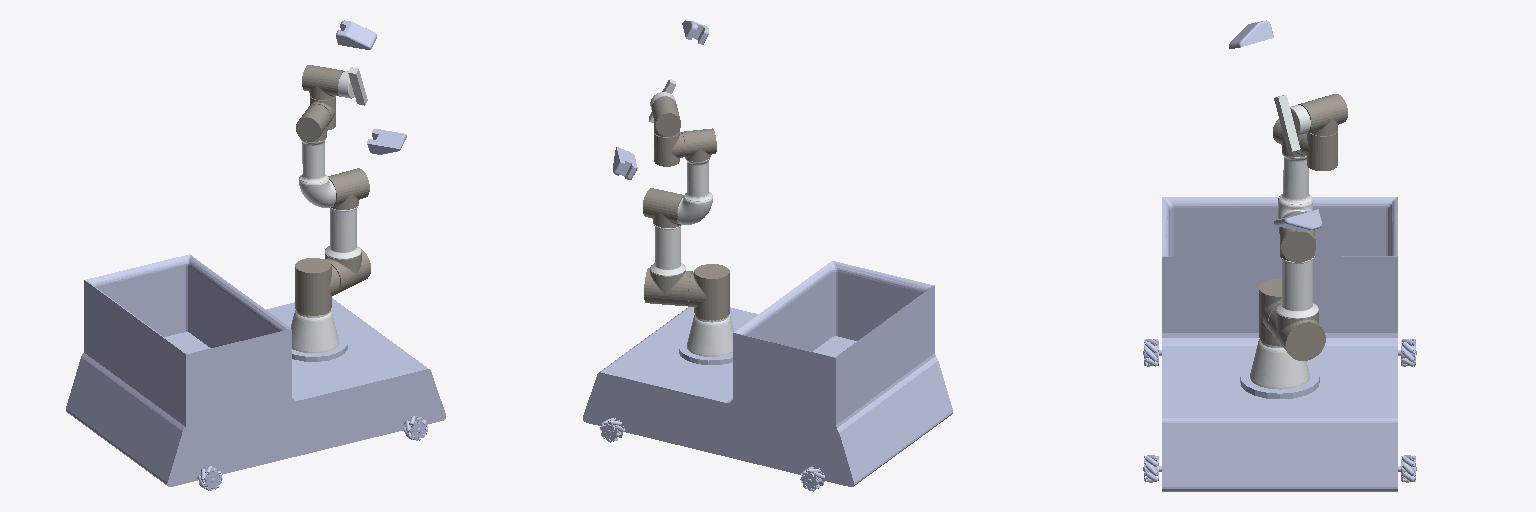
--- Render facts (derived) ---
3 views of the same robot in one strip: view 1: azimuth 30°, elevation 25°; view 2: azimuth 150°, elevation 25°; view 3: azimuth 270°, elevation 25° (orthographic).
Model vehicle_assembly with 50 links and 49 joints (6 revolute, 36 continuous, 2 prismatic, 5 fixed), rooted at base_link, posed all joints at 0 but 2 set to mid-range because 0 is outside their limits (ee_left_joint = -0.15, ee_right_joint = 0.15).
Visible links, largest first — view 1: base_link, ur3_link_1, u3_base_link, ur3_link_3, ur3_link_4, ur3_link_9, ur3_link_6, ur3_link_2, ur3_link_7, ee_right_finger, ee_left_finger, ee_link (+1 smaller); view 2: base_link, ur3_link_1, u3_base_link, ur3_link_2, ur3_link_3, ur3_link_4, ur3_link_6, ur3_link_7, ur3_link_9, ur3_link_8, ur3_link_5, ee_left_finger; view 3: base_link, u3_base_link, ur3_link_2, ur3_link_3, ur3_link_9, ur3_link_6, ur3_link_8, ee_link, ur3_link_4, ur3_link_1, ee_right_finger, ee_left_finger.
Boxes of the visible links, <box> form: base_link: <box>66,254,445,486</box>; ur3_link_1: <box>295,258,339,315</box>; u3_base_link: <box>291,310,338,352</box>; ur3_link_3: <box>325,204,361,259</box>; ur3_link_4: <box>328,168,369,209</box>; ur3_link_9: <box>302,65,344,99</box>; ur3_link_6: <box>299,137,328,184</box>; ur3_link_2: <box>325,249,370,293</box>; ur3_link_7: <box>296,104,330,141</box>; ee_right_finger: <box>336,20,376,49</box>; ee_left_finger: <box>367,129,406,154</box>; ee_link: <box>338,67,367,105</box>; base_link: <box>583,261,952,486</box>; ur3_link_1: <box>688,264,729,320</box>; u3_base_link: <box>687,315,733,356</box>; ur3_link_2: <box>644,268,692,306</box>; ur3_link_3: <box>650,223,685,275</box>; ur3_link_4: <box>643,188,683,227</box>; ur3_link_6: <box>684,157,712,203</box>; ur3_link_7: <box>681,128,716,161</box>; ur3_link_9: <box>652,97,680,136</box>; ur3_link_8: <box>654,132,684,166</box>; ur3_link_5: <box>677,192,712,224</box>; ee_left_finger: <box>613,147,637,179</box>; base_link: <box>1162,197,1397,491</box>; u3_base_link: <box>1250,339,1309,389</box>; ur3_link_2: <box>1268,306,1325,360</box>; ur3_link_3: <box>1276,256,1318,318</box>; ur3_link_9: <box>1298,94,1347,135</box>; ur3_link_6: <box>1278,153,1313,206</box>; ur3_link_8: <box>1300,131,1337,170</box>; ee_link: <box>1274,95,1310,151</box>; ur3_link_4: <box>1279,212,1315,262</box>; ur3_link_1: <box>1259,279,1281,346</box>; ee_right_finger: <box>1229,20,1273,48</box>; ee_left_finger: <box>1274,209,1321,231</box>.
Bounding box of the posed robot: 0.8316 × 0.58 × 1.05 m (x, y, z).
Meshes: 50 distinct files referenced, 50 mesh visuals loaded (50 binary STL).

robot.urdf — vehicle_assembly:
<?xml version="1.0" encoding="utf-8"?>
<!-- This URDF was automatically created by SolidWorks to URDF Exporter! Originally created by Stephen Brawner ([email redacted]) 
     Commit Version: 1.6.0-4-g7f85cfe  Build Version: 1.6.7995.38578
     For more information, please see http://wiki.ros.org/sw_urdf_exporter -->
<robot
  name="vehicle_assembly">
  <link
    name="base_link">
    <inertial>
      <origin
        xyz="-0.0224289386788021 1.56831062439276E-05 0.112224892831457"
        rpy="0 0 0" />
      <mass
        value="41.2251605884543" />
      <inertia
        ixx="1.24398926610813"
        ixy="0.000109018410003479"
        ixz="0.132898676032939"
        iyy="2.42715330453507"
        iyz="-0.000164052962245214"
        izz="3.20177683138895" />
    </inertial>
    <visual>
      <origin
        xyz="0 0 0"
        rpy="0 0 0" />
      <geometry>
        <mesh
          filename="package://vehicle_assembly/meshes/base_link.STL" />
      </geometry>
      <material
        name="">
        <color
          rgba="0.792156862745098 0.819607843137255 0.933333333333333 1" />
      </material>
    </visual>
    <collision>
      <origin
        xyz="0 0 0"
        rpy="0 0 0" />
      <geometry>
        <mesh
          filename="package://vehicle_assembly/meshes/base_link.STL" />
      </geometry>
    </collision>
  </link>
  <link
    name="front_right_wheel">
    <inertial>
      <origin
        xyz="9.54791801177635E-15 -9.99200722162641E-16 -0.026867640263798"
        rpy="0 0 0" />
      <mass
        value="0.0386433829117278" />
      <inertia
        ixx="1.34257227551692E-05"
        ixy="4.16154566175428E-21"
        ixz="-2.74623963367605E-22"
        iyy="1.34257227551692E-05"
        iyz="2.06712435077002E-21"
        izz="5.22587319768357E-06" />
    </inertial>
    <visual>
      <origin
        xyz="0 0 0"
        rpy="0 0 0" />
      <geometry>
        <mesh
          filename="package://vehicle_assembly/meshes/front_right_wheel.STL" />
      </geometry>
      <material
        name="">
        <color
          rgba="0.792156862745098 0.819607843137255 0.933333333333333 1" />
      </material>
    </visual>
    <collision>
      <origin
        xyz="0 0 0"
        rpy="0 0 0" />
      <geometry>
        <mesh
          filename="package://vehicle_assembly/meshes/front_right_wheel.STL" />
      </geometry>
    </collision>
  </link>
  <joint
    name="front_right_wheel_joint"
    type="continuous">
    <origin
      xyz="0.296125741132769 -0.29 0.0299999999999979"
      rpy="1.5707963267949 0 0" />
    <parent
      link="base_link" />
    <child
      link="front_right_wheel" />
    <axis
      xyz="0 0 1" />
  </joint>
  <link
    name="front_right_roller_1">
    <inertial>
      <origin
        xyz="0 0 -0.0141999999999921"
        rpy="0 0 0" />
      <mass
        value="0.0026981671245577" />
      <inertia
        ixx="1.63945498983838E-07"
        ixy="-3.30872245021211E-24"
        ixz="-1.29867356170825E-22"
        iyy="1.63945498983838E-07"
        iyz="8.43724224804088E-23"
        izz="4.74186810998576E-08" />
    </inertial>
    <visual>
      <origin
        xyz="0 0 0"
        rpy="0 0 0" />
      <geometry>
        <mesh
          filename="package://vehicle_assembly/meshes/front_right_roller_1.STL" />
      </geometry>
      <material
        name="">
        <color
          rgba="0.792156862745098 0.819607843137255 0.933333333333333 1" />
      </material>
    </visual>
    <collision>
      <origin
        xyz="0 0 0"
        rpy="0 0 0" />
      <geometry>
        <mesh
          filename="package://vehicle_assembly/meshes/front_right_roller_1.STL" />
      </geometry>
    </collision>
  </link>
  <joint
    name="front_right_roller_joint_1"
    type="continuous">
    <origin
      xyz="-0.025136382728163 -0.000933563771401413 -0.00736154021519259"
      rpy="0.766248578899469 -0.193236177895828 -0.182756128842447" />
    <parent
      link="front_right_wheel" />
    <child
      link="front_right_roller_1" />
    <axis
      xyz="0 0 -1" />
  </joint>
  <link
    name="front_right_roller_2">
    <inertial>
      <origin
        xyz="4.44089209850063E-16 -1.11022302462516E-16 -0.014199999999992"
        rpy="0 0 0" />
      <mass
        value="0.00269816712455768" />
      <inertia
        ixx="1.63945498983837E-07"
        ixy="-3.30872245021211E-24"
        ixz="-8.51996030929619E-23"
        iyy="1.63945498983837E-07"
        iyz="-1.65436122510606E-23"
        izz="4.74186810998574E-08" />
    </inertial>
    <visual>
      <origin
        xyz="0 0 0"
        rpy="0 0 0" />
      <geometry>
        <mesh
          filename="package://vehicle_assembly/meshes/front_right_roller_2.STL" />
      </geometry>
      <material
        name="">
        <color
          rgba="0.792156862745098 0.819607843137255 0.933333333333333 1" />
      </material>
    </visual>
    <collision>
      <origin
        xyz="0 0 0"
        rpy="0 0 0" />
      <geometry>
        <mesh
          filename="package://vehicle_assembly/meshes/front_right_roller_2.STL" />
      </geometry>
    </collision>
  </link>
  <joint
    name="front_right_roller_joint_2"
    type="continuous">
    <origin
      xyz="-0.0171139774081526 -0.0184342359550203 -0.00736154021519259"
      rpy="0.785398163397451 0 0.405693456993078" />
    <parent
      link="front_right_wheel" />
    <child
      link="front_right_roller_2" />
    <axis
      xyz="0 0 -1" />
  </joint>
  <link
    name="front_right_roller_3">
    <inertial>
      <origin
        xyz="8.32667268468867E-17 -1.11022302462516E-16 -0.0139999999999922"
        rpy="0 0 0" />
      <mass
        value="0.0026981671245577" />
      <inertia
        ixx="1.63945498983839E-07"
        ixy="-6.61744490042422E-24"
        ixz="-8.8508325543174E-23"
        iyy="1.63945498983839E-07"
        iyz="1.56130340619384E-22"
        izz="4.74186810998577E-08" />
    </inertial>
    <visual>
      <origin
        xyz="0 0 0"
        rpy="0 0 0" />
      <geometry>
        <mesh
          filename="package://vehicle_assembly/meshes/front_right_roller_3.STL" />
      </geometry>
      <material
        name="">
        <color
          rgba="0.792156862745098 0.819607843137255 0.933333333333333 1" />
      </material>
    </visual>
    <collision>
      <origin
        xyz="0 0 0"
        rpy="0 0 0" />
      <geometry>
        <mesh
          filename="package://vehicle_assembly/meshes/front_right_roller_3.STL" />
      </geometry>
    </collision>
  </link>
  <joint
    name="front_right_roller_joint_3"
    type="continuous">
    <origin
      xyz="0.00080221527494384 -0.0250839654364168 -0.00750296157142988"
      rpy="0.785398163397451 0 1.19109162039053" />
    <parent
      link="front_right_wheel" />
    <child
      link="front_right_roller_3" />
    <axis
      xyz="0 0 1" />
  </joint>
  <link
    name="front_right_roller_4">
    <inertial>
      <origin
        xyz="1.11022302462516E-16 0 -0.0139999999999922"
        rpy="0 0 0" />
      <mass
        value="0.00269816712455779" />
      <inertia
        ixx="1.63945498985512E-07"
        ixy="-3.33850095226402E-21"
        ixz="-8.68539643180679E-23"
        iyy="1.63945498985495E-07"
        iyz="-1.78877807464592E-22"
        izz="4.74186811031889E-08" />
    </inertial>
    <visual>
      <origin
        xyz="0 0 0"
        rpy="0 0 0" />
      <geometry>
        <mesh
          filename="package://vehicle_assembly/meshes/front_right_roller_4.STL" />
      </geometry>
      <material
        name="">
        <color
          rgba="0.792156862745098 0.819607843137255 0.933333333333333 1" />
      </material>
    </visual>
    <collision>
      <origin
        xyz="0 0 0"
        rpy="0 0 0" />
      <geometry>
        <mesh
          filename="package://vehicle_assembly/meshes/front_right_roller_4.STL" />
      </geometry>
    </collision>
  </link>
  <joint
    name="front_right_roller_joint_4"
    type="continuous">
    <origin
      xyz="0.0183042939200275 -0.0171697901982628 -0.00750296157142988"
      rpy="0.785398163397451 0 1.97648978378798" />
    <parent
      link="front_right_wheel" />
    <child
      link="front_right_roller_4" />
    <axis
      xyz="0 0 1" />
  </joint>
  <link
    name="front_right_roller_5">
    <inertial>
      <origin
        xyz="2.22044604925031E-16 -2.77555756156289E-17 -0.0139999999999921"
        rpy="0 0 0" />
      <mass
        value="0.00269816712455758" />
      <inertia
        ixx="1.63945498982501E-07"
        ixy="1.65436122510606E-23"
        ixz="-7.52734357423255E-23"
        iyy="1.63945498982501E-07"
        iyz="-4.96308367531817E-23"
        izz="4.741868109739E-08" />
    </inertial>
    <visual>
      <origin
        xyz="0 0 0"
        rpy="0 0 0" />
      <geometry>
        <mesh
          filename="package://vehicle_assembly/meshes/front_right_roller_5.STL" />
      </geometry>
      <material
        name="">
        <color
          rgba="0.792156862745098 0.819607843137255 0.933333333333333 1" />
      </material>
    </visual>
    <collision>
      <origin
        xyz="0 0 0"
        rpy="0 0 0" />
      <geometry>
        <mesh
          filename="package://vehicle_assembly/meshes/front_right_roller_5.STL" />
      </geometry>
    </collision>
  </link>
  <joint
    name="front_right_roller_joint_5"
    type="continuous">
    <origin
      xyz="0.025083965436429 0.000802215274933349 -0.00750296157142988"
      rpy="0.785398163397451 0 2.76188794718543" />
    <parent
      link="front_right_wheel" />
    <child
      link="front_right_roller_5" />
    <axis
      xyz="0 0 1" />
  </joint>
  <link
    name="front_right_roller_6">
    <inertial>
      <origin
        xyz="1.11022302462516E-16 0 -0.0139999999999922"
        rpy="0 0 0" />
      <mass
        value="0.00269816712455759" />
      <inertia
        ixx="1.63945498982287E-07"
        ixy="6.61744490042422E-24"
        ixz="-5.54211010410529E-23"
        iyy="1.63945498982287E-07"
        iyz="-2.31610571514848E-23"
        izz="4.74186810969605E-08" />
    </inertial>
    <visual>
      <origin
        xyz="0 0 0"
        rpy="0 0 0" />
      <geometry>
        <mesh
          filename="package://vehicle_assembly/meshes/front_right_roller_6.STL" />
      </geometry>
      <material
        name="">
        <color
          rgba="0.792156862745098 0.819607843137255 0.933333333333333 1" />
      </material>
    </visual>
    <collision>
      <origin
        xyz="0 0 0"
        rpy="0 0 0" />
      <geometry>
        <mesh
          filename="package://vehicle_assembly/meshes/front_right_roller_6.STL" />
      </geometry>
    </collision>
  </link>
  <joint
    name="front_right_roller_joint_6"
    type="continuous">
    <origin
      xyz="0.017169790198275 0.018304293920017 -0.00750296157142988"
      rpy="0.785398163397451 0 -2.73589919659671" />
    <parent
      link="front_right_wheel" />
    <child
      link="front_right_roller_6" />
    <axis
      xyz="0 0 1" />
  </joint>
  <link
    name="front_right_roller_7">
    <inertial>
      <origin
        xyz="8.32667268468867E-17 -2.22044604925031E-16 -0.013999999999992"
        rpy="0 0 0" />
      <mass
        value="0.00269816712455774" />
      <inertia
        ixx="1.63945498983938E-07"
        ixy="1.65436122510606E-23"
        ixz="-1.57991496997628E-22"
        iyy="1.63945498983938E-07"
        iyz="2.43811485550005E-22"
        izz="4.74186811002666E-08" />
    </inertial>
    <visual>
      <origin
        xyz="0 0 0"
        rpy="0 0 0" />
      <geometry>
        <mesh
          filename="package://vehicle_assembly/meshes/front_right_roller_7.STL" />
      </geometry>
      <material
        name="">
        <color
          rgba="0.792156862745098 0.819607843137255 0.933333333333333 1" />
      </material>
    </visual>
    <collision>
      <origin
        xyz="0 0 0"
        rpy="0 0 0" />
      <geometry>
        <mesh
          filename="package://vehicle_assembly/meshes/front_right_roller_7.STL" />
      </geometry>
    </collision>
  </link>
  <joint
    name="front_right_roller_joint_7"
    type="continuous">
    <origin
      xyz="-0.000802215274921414 0.0250839654364179 -0.00750296157142982"
      rpy="0.785398163397451 0 -1.95050103319926" />
    <parent
      link="front_right_wheel" />
    <child
      link="front_right_roller_7" />
    <axis
      xyz="0 0 1" />
  </joint>
  <link
    name="front_right_roller_8">
    <inertial>
      <origin
        xyz="-1.11022302462516E-16 -1.11022302462516E-16 -0.0139999999999922"
        rpy="0 0 0" />
      <mass
        value="0.00269816712455774" />
      <inertia
        ixx="1.63945498985208E-07"
        ixy="1.32348898008484E-23"
        ixz="-2.81241408268029E-23"
        iyy="1.63945498985208E-07"
        iyz="-3.20532487364298E-23"
        izz="4.74186811023884E-08" />
    </inertial>
    <visual>
      <origin
        xyz="0 0 0"
        rpy="0 0 0" />
      <geometry>
        <mesh
          filename="package://vehicle_assembly/meshes/front_right_roller_8.STL" />
      </geometry>
      <material
        name="">
        <color
          rgba="0.792156862745098 0.819607843137255 0.933333333333333 1" />
      </material>
    </visual>
    <collision>
      <origin
        xyz="0 0 0"
        rpy="0 0 0" />
      <geometry>
        <mesh
          filename="package://vehicle_assembly/meshes/front_right_roller_8.STL" />
      </geometry>
    </collision>
  </link>
  <joint
    name="front_right_roller_joint_8"
    type="continuous">
    <origin
      xyz="-0.0183042939200047 0.0171697901982646 -0.00750296157142988"
      rpy="0.785398163397451 0 -1.16510286980182" />
    <parent
      link="front_right_wheel" />
    <child
      link="front_right_roller_8" />
    <axis
      xyz="0 0 1" />
  </joint>
  <link
    name="rear_right_wheel">
    <inertial>
      <origin
        xyz="-4.44089209850063E-16 -3.33066907387547E-16 -0.0268676402673231"
        rpy="0 0 0" />
      <mass
        value="0.038643382868784" />
      <inertia
        ixx="1.34257227518845E-05"
        ixy="-3.61147055440652E-21"
        ixz="2.00839452727875E-21"
        iyy="1.34257227518845E-05"
        iyz="-6.5843576759221E-22"
        izz="5.22587319547653E-06" />
    </inertial>
    <visual>
      <origin
        xyz="0 0 0"
        rpy="0 0 0" />
      <geometry>
        <mesh
          filename="package://vehicle_assembly/meshes/rear_right_wheel.STL" />
      </geometry>
      <material
        name="">
        <color
          rgba="0.792156862745098 0.819607843137255 0.933333333333333 1" />
      </material>
    </visual>
    <collision>
      <origin
        xyz="0 0 0"
        rpy="0 0 0" />
      <geometry>
        <mesh
          filename="package://vehicle_assembly/meshes/rear_right_wheel.STL" />
      </geometry>
    </collision>
  </link>
  <joint
    name="rear_right_wheel_joint"
    type="continuous">
    <origin
      xyz="-0.287691876046496 -0.29 0.0300000000000009"
      rpy="1.5707963267949 0 0" />
    <parent
      link="base_link" />
    <child
      link="rear_right_wheel" />
    <axis
      xyz="0 0 1" />
  </joint>
  <link
    name="rear_right_roller_1">
    <inertial>
      <origin
        xyz="2.22044604925031E-16 -1.11022302462516E-16 -0.0139999999999923"
        rpy="0 0 0" />
      <mass
        value="0.00269816712455773" />
      <inertia
        ixx="1.63945498985603E-07"
        ixy="3.30872245021211E-24"
        ixz="-4.4254162771587E-23"
        iyy="1.63945498985602E-07"
        iyz="-4.96308367531817E-24"
        izz="4.74186811031799E-08" />
    </inertial>
    <visual>
      <origin
        xyz="0 0 0"
        rpy="0 0 0" />
      <geometry>
        <mesh
          filename="package://vehicle_assembly/meshes/rear_right_roller_1.STL" />
      </geometry>
      <material
        name="">
        <color
          rgba="0.792156862745098 0.819607843137255 0.933333333333333 1" />
      </material>
    </visual>
    <collision>
      <origin
        xyz="0 0 0"
        rpy="0 0 0" />
      <geometry>
        <mesh
          filename="package://vehicle_assembly/meshes/rear_right_roller_1.STL" />
      </geometry>
    </collision>
  </link>
  <joint
    name="rear_right_roller_joint_1"
    type="continuous">
    <origin
      xyz="0.00546345688911121 0.0244948874294918 -0.00750296157142988"
      rpy="-0.623153977285637 -0.514017351689894 0.33966567667138" />
    <parent
      link="rear_right_wheel" />
    <child
      link="rear_right_roller_1" />
    <axis
      xyz="0 0 1" />
  </joint>
  <link
    name="rear_right_roller_2">
    <inertial>
      <origin
        xyz="-1.11022302462516E-16 0 -0.0139999999999921"
        rpy="0 0 0" />
      <mass
        value="0.00269816712455764" />
      <inertia
        ixx="1.63945498982508E-07"
        ixy="0"
        ixz="1.3524403015242E-22"
        iyy="1.63945498982508E-07"
        iyz="2.15066959263787E-23"
        izz="4.74186810974015E-08" />
    </inertial>
    <visual>
      <origin
        xyz="0 0 0"
        rpy="0 0 0" />
      <geometry>
        <mesh
          filename="package://vehicle_assembly/meshes/rear_right_roller_2.STL" />
      </geometry>
      <material
        name="">
        <color
          rgba="0.792156862745098 0.819607843137255 0.933333333333333 1" />
      </material>
    </visual>
    <collision>
      <origin
        xyz="0 0 0"
        rpy="0 0 0" />
      <geometry>
        <mesh
          filename="package://vehicle_assembly/meshes/rear_right_roller_2.STL" />
      </geometry>
    </collision>
  </link>
  <joint
    name="rear_right_roller_joint_2"
    type="continuous">
    <origin
      xyz="-0.0134572535907849 0.0211837484208044 -0.00750296157142988"
      rpy="0.211571775494453 -0.762323422646798 -0.147258376597581" />
    <parent
      link="rear_right_wheel" />
    <child
      link="rear_right_roller_2" />
    <axis
      xyz="0 0 -1" />
  </joint>
  <link
    name="rear_right_roller_3">
    <inertial>
      <origin
        xyz="1.11022302462516E-16 0 -0.0139999999999922"
        rpy="0 0 0" />
      <mass
        value="0.00269816712455764" />
      <inertia
        ixx="1.63945498983626E-07"
        ixy="3.30872245021211E-24"
        ixz="-1.48892510259545E-23"
        iyy="1.63945498983626E-07"
        iyz="5.29395592033938E-23"
        izz="4.74186810994344E-08" />
    </inertial>
    <visual>
      <origin
        xyz="0 0 0"
        rpy="0 0 0" />
      <geometry>
        <mesh
          filename="package://vehicle_assembly/meshes/rear_right_roller_3.STL" />
      </geometry>
      <material
        name="">
        <color
          rgba="0.792156862745098 0.819607843137255 0.933333333333333 1" />
      </material>
    </visual>
    <collision>
      <origin
        xyz="0 0 0"
        rpy="0 0 0" />
      <geometry>
        <mesh
          filename="package://vehicle_assembly/meshes/rear_right_roller_3.STL" />
      </geometry>
    </collision>
  </link>
  <joint
    name="rear_right_roller_joint_3"
    type="continuous">
    <origin
      xyz="-0.0244948874294926 0.0054634568891084 -0.00750296157142988"
      rpy="0.785398163397451 0 -0.631127670755188" />
    <parent
      link="rear_right_wheel" />
    <child
      link="rear_right_roller_3" />
    <axis
      xyz="0 0 -1" />
  </joint>
  <link
    name="rear_right_roller_4">
    <inertial>
      <origin
        xyz="-5.55111512312578E-17 0 -0.0139999999999922"
        rpy="0 0 0" />
      <mass
        value="0.00269816712455769" />
      <inertia
        ixx="1.63945498985194E-07"
        ixy="6.61744490042422E-24"
        ixz="2.19202862326552E-23"
        iyy="1.63945498985194E-07"
        iyz="3.14328632770151E-23"
        izz="4.74186811023605E-08" />
    </inertial>
    <visual>
      <origin
        xyz="0 0 0"
        rpy="0 0 0" />
      <geometry>
        <mesh
          filename="package://vehicle_assembly/meshes/rear_right_roller_4.STL" />
      </geometry>
      <material
        name="">
        <color
          rgba="0.792156862745098 0.819607843137255 0.933333333333333 1" />
      </material>
    </visual>
    <collision>
      <origin
        xyz="0 0 0"
        rpy="0 0 0" />
      <geometry>
        <mesh
          filename="package://vehicle_assembly/meshes/rear_right_roller_4.STL" />
      </geometry>
    </collision>
  </link>
  <joint
    name="rear_right_roller_joint_4"
    type="continuous">
    <origin
      xyz="-0.0211837484208052 -0.0134572535907877 -0.00750296157142988"
      rpy="0.785398163397451 0 0.154270492642262" />
    <parent
      link="rear_right_wheel" />
    <child
      link="rear_right_roller_4" />
    <axis
      xyz="0 0 -1" />
  </joint>
  <link
    name="rear_right_roller_5">
    <inertial>
      <origin
        xyz="0 -2.77555756156289E-17 -0.013999999999992"
        rpy="0 0 0" />
      <mass
        value="0.00269816712455765" />
      <inertia
        ixx="1.63945498982565E-07"
        ixy="1.65436122510606E-23"
        ixz="-4.13590306276514E-23"
        iyy="1.63945498982565E-07"
        iyz="1.19941188820189E-22"
        izz="4.74186810973101E-08" />
    </inertial>
    <visual>
      <origin
        xyz="0 0 0"
        rpy="0 0 0" />
      <geometry>
        <mesh
          filename="package://vehicle_assembly/meshes/rear_right_roller_5.STL" />
      </geometry>
      <material
        name="">
        <color
          rgba="0.792156862745098 0.819607843137255 0.933333333333333 1" />
      </material>
    </visual>
    <collision>
      <origin
        xyz="0 0 0"
        rpy="0 0 0" />
      <geometry>
        <mesh
          filename="package://vehicle_assembly/meshes/rear_right_roller_5.STL" />
      </geometry>
    </collision>
  </link>
  <joint
    name="rear_right_roller_joint_5"
    type="continuous">
    <origin
      xyz="-0.0054634568891091 -0.0244948874294954 -0.00750296157142988"
      rpy="0.785398163397451 0 0.939668656039712" />
    <parent
      link="rear_right_wheel" />
    <child
      link="rear_right_roller_5" />
    <axis
      xyz="0 0 -1" />
  </joint>
  <link
    name="rear_right_roller_6">
    <inertial>
      <origin
        xyz="-1.11022302462516E-16 2.77555756156289E-17 -0.013999999999992"
        rpy="0 0 0" />
      <mass
        value="0.00269816712455759" />
      <inertia
        ixx="1.63945498982502E-07"
        ixy="-3.30872245021211E-24"
        ixz="6.16249556352006E-23"
        iyy="1.63945498982502E-07"
        iyz="1.07688575996747E-22"
        izz="4.74186810973902E-08" />
    </inertial>
    <visual>
      <origin
        xyz="0 0 0"
        rpy="0 0 0" />
      <geometry>
        <mesh
          filename="package://vehicle_assembly/meshes/rear_right_roller_6.STL" />
      </geometry>
      <material
        name="">
        <color
          rgba="0.792156862745098 0.819607843137255 0.933333333333333 1" />
      </material>
    </visual>
    <collision>
      <origin
        xyz="0 0 0"
        rpy="0 0 0" />
      <geometry>
        <mesh
          filename="package://vehicle_assembly/meshes/rear_right_roller_6.STL" />
      </geometry>
    </collision>
  </link>
  <joint
    name="rear_right_roller_joint_6"
    type="continuous">
    <origin
      xyz="0.0134572535907871 -0.0211837484208079 -0.00750296157142988"
      rpy="0.785398163397451 0 1.72506681943716" />
    <parent
      link="rear_right_wheel" />
    <child
      link="rear_right_roller_6" />
    <axis
      xyz="0 0 -1" />
  </joint>
  <link
    name="rear_right_roller_7">
    <inertial>
      <origin
        xyz="0 -2.77555756156289E-17 -0.0141999999999923"
        rpy="0 0 0" />
      <mass
        value="0.00269816712455769" />
      <inertia
        ixx="1.63945498984811E-07"
        ixy="-1.32348898008484E-23"
        ixz="-6.28657265540301E-23"
        iyy="1.63945498984811E-07"
        iyz="-2.31610571514848E-23"
        izz="4.74186811015957E-08" />
    </inertial>
    <visual>
      <origin
        xyz="0 0 0"
        rpy="0 0 0" />
      <geometry>
        <mesh
          filename="package://vehicle_assembly/meshes/rear_right_roller_7.STL" />
      </geometry>
      <material
        name="">
        <color
          rgba="0.792156862745098 0.819607843137255 0.933333333333333 1" />
      </material>
    </visual>
    <collision>
      <origin
        xyz="0 0 0"
        rpy="0 0 0" />
      <geometry>
        <mesh
          filename="package://vehicle_assembly/meshes/rear_right_roller_7.STL" />
      </geometry>
    </collision>
  </link>
  <joint
    name="rear_right_roller_joint_7"
    type="continuous">
    <origin
      xyz="0.0245783338887628 -0.00534927857052381 -0.00736154021519253"
      rpy="0.785398163397451 0 2.51046498283461" />
    <parent
      link="rear_right_wheel" />
    <child
      link="rear_right_roller_7" />
    <axis
      xyz="0 0 -1" />
  </joint>
  <link
    name="rear_right_roller_8">
    <inertial>
      <origin
        xyz="1.11022302462516E-16 -5.55111512312578E-17 -0.0139999999999922"
        rpy="0 0 0" />
      <mass
        value="0.00269816712455769" />
      <inertia
        ixx="1.63945498983915E-07"
        ixy="-4.96308367531817E-24"
        ixz="-3.35008148083976E-23"
        iyy="1.63945498983915E-07"
        iyz="4.30133918527574E-23"
        izz="4.74186811002196E-08" />
    </inertial>
    <visual>
      <origin
        xyz="0 0 0"
        rpy="0 0 0" />
      <geometry>
        <mesh
          filename="package://vehicle_assembly/meshes/rear_right_roller_8.STL" />
      </geometry>
      <material
        name="">
        <color
          rgba="0.792156862745098 0.819607843137255 0.933333333333333 1" />
      </material>
    </visual>
    <collision>
      <origin
        xyz="0 0 0"
        rpy="0 0 0" />
      <geometry>
        <mesh
          filename="package://vehicle_assembly/meshes/rear_right_roller_8.STL" />
      </geometry>
    </collision>
  </link>
  <joint
    name="rear_right_roller_joint_8"
    type="continuous">
    <origin
      xyz="0.0211837484208072 0.013457253590784 -0.00750296157142988"
      rpy="0.785398163397451 0 -2.98732216094754" />
    <parent
      link="rear_right_wheel" />
    <child
      link="rear_right_roller_8" />
    <axis
      xyz="0 0 -1" />
  </joint>
  <link
    name="rear_left_wheel">
    <inertial>
      <origin
        xyz="2.22044604925031E-16 0 -0.0268676402646212"
        rpy="0 0 0" />
      <mass
        value="0.0386433828852301" />
      <inertia
        ixx="1.34257227530065E-05"
        ixy="3.31699425633764E-21"
        ixz="1.08360660244447E-21"
        iyy="1.34257227530065E-05"
        iyz="8.78465810531315E-22"
        izz="5.22587319926349E-06" />
    </inertial>
    <visual>
      <origin
        xyz="0 0 0"
        rpy="0 0 0" />
      <geometry>
        <mesh
          filename="package://vehicle_assembly/meshes/rear_left_wheel.STL" />
      </geometry>
      <material
        name="">
        <color
          rgba="0.792156862745098 0.819607843137255 0.933333333333333 1" />
      </material>
    </visual>
    <collision>
      <origin
        xyz="0 0 0"
        rpy="0 0 0" />
      <geometry>
        <mesh
          filename="package://vehicle_assembly/meshes/rear_left_wheel.STL" />
      </geometry>
    </collision>
  </link>
  <joint
    name="rear_left_wheel_joint"
    type="continuous">
    <origin
      xyz="-0.287691876046497 0.29 0.0300000000000001"
      rpy="-1.5707963267949 0 0" />
    <parent
      link="base_link" />
    <child
      link="rear_left_wheel" />
    <axis
      xyz="0 0 1" />
  </joint>
  <link
    name="rear_left_roller_1">
    <inertial>
      <origin
        xyz="5.55111512312578E-17 -5.55111512312578E-17 -0.0139999999999922"
        rpy="0 0 0" />
      <mass
        value="0.00269816712455764" />
      <inertia
        ixx="1.63945498982479E-07"
        ixy="-6.61744490042422E-24"
        ixz="4.13590306276514E-25"
        iyy="1.63945498982479E-07"
        iyz="3.63959469523332E-23"
        izz="4.74186810973482E-08" />
    </inertial>
    <visual>
      <origin
        xyz="0 0 0"
        rpy="0 0 0" />
      <geometry>
        <mesh
          filename="package://vehicle_assembly/meshes/rear_left_roller_1.STL" />
      </geometry>
      <material
        name="">
        <color
          rgba="0.792156862745098 0.819607843137255 0.933333333333333 1" />
      </material>
    </visual>
    <collision>
      <origin
        xyz="0 0 0"
        rpy="0 0 0" />
      <geometry>
        <mesh
          filename="package://vehicle_assembly/meshes/rear_left_roller_1.STL" />
      </geometry>
    </collision>
  </link>
  <joint
    name="rear_left_roller_joint_1"
    type="continuous">
    <origin
      xyz="-0.012643793705906 -0.0216790994297534 -0.00750296157142993"
      rpy="0.726359838780016 0.330625265585473 0.280780785805676" />
    <parent
      link="rear_left_wheel" />
    <child
      link="rear_left_roller_1" />
    <axis
      xyz="0 0 1" />
  </joint>
  <link
    name="rear_left_roller_2">
    <inertial>
      <origin
        xyz="-5.55111512312578E-17 0 -0.0139999999999922"
        rpy="0 0 0" />
      <mass
        value="0.00269816712455759" />
      <inertia
        ixx="1.63945498982287E-07"
        ixy="-2.48154183765908E-24"
        ixz="5.8729823491265E-23"
        iyy="1.63945498982287E-07"
        iyz="7.77549775799846E-23"
        izz="4.74186810969594E-08" />
    </inertial>
    <visual>
      <origin
        xyz="0 0 0"
        rpy="0 0 0" />
      <geometry>
        <mesh
          filename="package://vehicle_assembly/meshes/rear_left_roller_2.STL" />
      </geometry>
      <material
        name="">
        <color
          rgba="0.792156862745098 0.819607843137255 0.933333333333333 1" />
      </material>
    </visual>
    <collision>
      <origin
        xyz="0 0 0"
        rpy="0 0 0" />
      <geometry>
        <mesh
          filename="package://vehicle_assembly/meshes/rear_left_roller_2.STL" />
      </geometry>
    </collision>
  </link>
  <joint
    name="rear_left_roller_joint_2"
    type="continuous">
    <origin
      xyz="-0.0242699504861661 -0.0063889259474246 -0.00750296157142993"
      rpy="0.782393541200266 -0.0773643643473035 -0.0766735609008714" />
    <parent
      link="rear_left_wheel" />
    <child
      link="rear_left_roller_2" />
    <axis
      xyz="0 0 1" />
  </joint>
  <link
    name="rear_left_roller_3">
    <inertial>
      <origin
        xyz="-5.55111512312578E-17 0 -0.0139999999999922"
        rpy="0 0 0" />
      <mass
        value="0.00269816712455775" />
      <inertia
        ixx="1.63945498984686E-07"
        ixy="-1.32348898008484E-23"
        ixz="2.8951321439356E-23"
        iyy="1.63945498984686E-07"
        iyz="7.11375326795604E-23"
        izz="4.74186811015538E-08" />
    </inertial>
    <visual>
      <origin
        xyz="0 0 0"
        rpy="0 0 0" />
      <geometry>
        <mesh
          filename="package://vehicle_assembly/meshes/rear_left_roller_3.STL" />
      </geometry>
      <material
        name="">
        <color
          rgba="0.792156862745098 0.819607843137255 0.933333333333333 1" />
      </material>
    </visual>
    <collision>
      <origin
        xyz="0 0 0"
        rpy="0 0 0" />
      <geometry>
        <mesh
          filename="package://vehicle_assembly/meshes/rear_left_roller_3.STL" />
      </geometry>
    </collision>
  </link>
  <joint
    name="rear_left_roller_joint_3"
    type="continuous">
    <origin
      xyz="-0.0216790994297526 0.0126437937059088 -0.00750296157142993"
      rpy="0.623153977285602 -0.514017351689939 -0.339665676671382" />
    <parent
      link="rear_left_wheel" />
    <child
      link="rear_left_roller_3" />
    <axis
      xyz="0 0 1" />
  </joint>
  <link
    name="rear_left_roller_4">
    <inertial>
      <origin
        xyz="-1.11022302462516E-16 -8.32667268468867E-17 -0.0139999999999922"
        rpy="0 0 0" />
      <mass
        value="0.00269816712455779" />
      <inertia
        ixx="1.63945498985522E-07"
        ixy="-6.61744490042422E-24"
        ixz="-5.04580173657347E-23"
        iyy="1.63945498985522E-07"
        iyz="-1.65022532204329E-22"
        izz="4.74186811032269E-08" />
    </inertial>
    <visual>
      <origin
        xyz="0 0 0"
        rpy="0 0 0" />
      <geometry>
        <mesh
          filename="package://vehicle_assembly/meshes/rear_left_roller_4.STL" />
      </geometry>
      <material
        name="">
        <color
          rgba="0.792156862745098 0.819607843137255 0.933333333333333 1" />
      </material>
    </visual>
    <collision>
      <origin
        xyz="0 0 0"
        rpy="0 0 0" />
      <geometry>
        <mesh
          filename="package://vehicle_assembly/meshes/rear_left_roller_4.STL" />
      </geometry>
    </collision>
  </link>
  <joint
    name="rear_left_roller_joint_4"
    type="continuous">
    <origin
      xyz="-0.0063889259474238 0.0242699504861689 -0.00750296157142993"
      rpy="-0.211571775494547 -0.762323422646777 0.147258376597644" />
    <parent
      link="rear_left_wheel" />
    <child
      link="rear_left_roller_4" />
    <axis
      xyz="0 0 1" />
  </joint>
  <link
    name="rear_left_roller_5">
    <inertial>
      <origin
        xyz="-1.11022302462516E-16 5.55111512312578E-17 -0.0139999999999922"
        rpy="0 0 0" />
      <mass
        value="0.00269816712455759" />
      <inertia
        ixx="1.63945498982482E-07"
        ixy="3.30872245021211E-24"
        ixz="-6.28657265540301E-23"
        iyy="1.63945498982482E-07"
        iyz="1.32348898008484E-23"
        izz="4.74186810973545E-08" />
    </inertial>
    <visual>
      <origin
        xyz="0 0 0"
        rpy="0 0 0" />
      <geometry>
        <mesh
          filename="package://vehicle_assembly/meshes/rear_left_roller_5.STL" />
      </geometry>
      <material
        name="">
        <color
          rgba="0.792156862745098 0.819607843137255 0.933333333333333 1" />
      </material>
    </visual>
    <collision>
      <origin
        xyz="0 0 0"
        rpy="0 0 0" />
      <geometry>
        <mesh
          filename="package://vehicle_assembly/meshes/rear_left_roller_5.STL" />
      </geometry>
    </collision>
  </link>
  <joint
    name="rear_left_roller_joint_5"
    type="continuous">
    <origin
      xyz="0.0126437937059088 0.021679099429755 -0.00750296157142988"
      rpy="-0.726359838780014 -0.330625265585477 0.280780785805678" />
    <parent
      link="rear_left_wheel" />
    <child
      link="rear_left_roller_5" />
    <axis
      xyz="0 0 1" />
  </joint>
  <link
    name="rear_left_roller_6">
    <inertial>
      <origin
        xyz="1.11022302462516E-16 0 -0.0139999999999922"
        rpy="0 0 0" />
      <mass
        value="0.00269816712455774" />
      <inertia
        ixx="1.63945498985603E-07"
        ixy="8.27180612553028E-25"
        ixz="-2.37814426108995E-23"
        iyy="1.63945498985603E-07"
        iyz="-2.9778502051909E-23"
        izz="4.74186811031801E-08" />
    </inertial>
    <visual>
      <origin
        xyz="0 0 0"
        rpy="0 0 0" />
      <geometry>
        <mesh
          filename="package://vehicle_assembly/meshes/rear_left_roller_6.STL" />
      </geometry>
      <material
        name="">
        <color
          rgba="0.792156862745098 0.819607843137255 0.933333333333333 1" />
      </material>
    </visual>
    <collision>
      <origin
        xyz="0 0 0"
        rpy="0 0 0" />
      <geometry>
        <mesh
          filename="package://vehicle_assembly/meshes/rear_left_roller_6.STL" />
      </geometry>
    </collision>
  </link>
  <joint
    name="rear_left_roller_joint_6"
    type="continuous">
    <origin
      xyz="0.0242699504861695 0.00638892594742668 -0.00750296157142993"
      rpy="-0.782393541200267 0.0773643643473 -0.0766735609008679" />
    <parent
      link="rear_left_wheel" />
    <child
      link="rear_left_roller_6" />
    <axis
      xyz="0 0 1" />
  </joint>
  <link
    name="rear_left_roller_7">
    <inertial>
      <origin
        xyz="2.77555756156289E-17 -2.77555756156289E-17 -0.0139999999999922"
        rpy="0 0 0" />
      <mass
        value="0.00269816712455764" />
      <inertia
        ixx="1.63945498983627E-07"
        ixy="1.98523347012727E-23"
        ixz="9.59529510561512E-23"
        iyy="1.63945498983627E-07"
        iyz="1.48892510259545E-23"
        izz="4.74186810994343E-08" />
    </inertial>
    <visual>
      <origin
        xyz="0 0 0"
        rpy="0 0 0" />
      <geometry>
        <mesh
          filename="package://vehicle_assembly/meshes/rear_left_roller_7.STL" />
      </geometry>
      <material
        name="">
        <color
          rgba="0.792156862745098 0.819607843137255 0.933333333333333 1" />
      </material>
    </visual>
    <collision>
      <origin
        xyz="0 0 0"
        rpy="0 0 0" />
      <geometry>
        <mesh
          filename="package://vehicle_assembly/meshes/rear_left_roller_7.STL" />
      </geometry>
    </collision>
  </link>
  <joint
    name="rear_left_roller_joint_7"
    type="continuous">
    <origin
      xyz="0.0216790994297561 -0.0126437937059067 -0.00750296157142993"
      rpy="-0.785398163397451 0 -0.93966865603977" />
    <parent
      link="rear_left_wheel" />
    <child
      link="rear_left_roller_7" />
    <axis
      xyz="0 0 1" />
  </joint>
  <link
    name="rear_left_roller_8">
    <inertial>
      <origin
        xyz="5.55111512312578E-17 5.55111512312578E-17 -0.0139999999999921"
        rpy="0 0 0" />
      <mass
        value="0.00269816712455759" />
      <inertia
        ixx="1.63945498982285E-07"
        ixy="6.61744490042422E-24"
        ixz="-3.22600438895681E-23"
        iyy="1.63945498982285E-07"
        iyz="1.83013710527357E-23"
        izz="4.74186810969594E-08" />
    </inertial>
    <visual>
      <origin
        xyz="0 0 0"
        rpy="0 0 0" />
      <geometry>
        <mesh
          filename="package://vehicle_assembly/meshes/rear_left_roller_8.STL" />
      </geometry>
      <material
        name="">
        <color
          rgba="0.792156862745098 0.819607843137255 0.933333333333333 1" />
      </material>
    </visual>
    <collision>
      <origin
        xyz="0 0 0"
        rpy="0 0 0" />
      <geometry>
        <mesh
          filename="package://vehicle_assembly/meshes/rear_left_roller_8.STL" />
      </geometry>
    </collision>
  </link>
  <joint
    name="rear_left_roller_joint_8"
    type="continuous">
    <origin
      xyz="0.00638892594742735 -0.0242699504861669 -0.00750296157142993"
      rpy="-0.785398163397451 0 -1.72506681943722" />
    <parent
      link="rear_left_wheel" />
    <child
      link="rear_left_roller_8" />
    <axis
      xyz="0 0 1" />
  </joint>
  <link
    name="front_left_wheel">
    <inertial>
      <origin
        xyz="1.08801856413265E-14 1.13797860024079E-15 -0.0268676402638755"
        rpy="0 0 0" />
      <mass
        value="0.0386433829109976" />
      <inertia
        ixx="1.3425722755107E-05"
        ixy="-3.891884782062E-21"
        ixz="3.30872245021211E-22"
        iyy="1.3425722755107E-05"
        iyz="2.98777637254154E-21"
        izz="5.22587319747601E-06" />
    </inertial>
    <visual>
      <origin
        xyz="0 0 0"
        rpy="0 0 0" />
      <geometry>
        <mesh
          filename="package://vehicle_assembly/meshes/front_left_wheel.STL" />
      </geometry>
      <material
        name="">
        <color
          rgba="0.792156862745098 0.819607843137255 0.933333333333333 1" />
      </material>
    </visual>
    <collision>
      <origin
        xyz="0 0 0"
        rpy="0 0 0" />
      <geometry>
        <mesh
          filename="package://vehicle_assembly/meshes/front_left_wheel.STL" />
      </geometry>
    </collision>
  </link>
  <joint
    name="front_left_wheel_joint"
    type="continuous">
    <origin
      xyz="0.29612574113277 0.29 0.0300000000000017"
      rpy="-1.5707963267949 0 0" />
    <parent
      link="base_link" />
    <child
      link="front_left_wheel" />
    <axis
      xyz="0 0 1" />
  </joint>
  <link
    name="front_left_roller_1">
    <inertial>
      <origin
        xyz="-4.44089209850063E-16 0 -0.0139999999999922"
        rpy="0 0 0" />
      <mass
        value="0.0026981671245577" />
      <inertia
        ixx="1.63945498983613E-07"
        ixy="1.65436122510606E-24"
        ixz="-8.10637000301967E-23"
        iyy="1.63945498983613E-07"
        iyz="-7.44462551297725E-23"
        izz="4.7418681099409E-08" />
    </inertial>
    <visual>
      <origin
        xyz="0 0 0"
        rpy="0 0 0" />
      <geometry>
        <mesh
          filename="package://vehicle_assembly/meshes/front_left_roller_1.STL" />
      </geometry>
      <material
        name="">
        <color
          rgba="0.792156862745098 0.819607843137255 0.933333333333333 1" />
      </material>
    </visual>
    <collision>
      <origin
        xyz="0 0 0"
        rpy="0 0 0" />
      <geometry>
        <mesh
          filename="package://vehicle_assembly/meshes/front_left_roller_1.STL" />
      </geometry>
    </collision>
  </link>
  <joint
    name="front_left_roller_joint_1"
    type="continuous">
    <origin
      xyz="0.0250963410938483 0.000150116835983372 -0.00750296157142988"
      rpy="-0.763346740733763 0.206966081028483 -0.194146383614585" />
    <parent
      link="front_left_wheel" />
    <child
      link="front_left_roller_1" />
    <axis
      xyz="0 0 1" />
  </joint>
  <link
    name="front_left_roller_2">
    <inertial>
      <origin
        xyz="1.11022302462516E-16 -1.38777878078145E-17 -0.0139999999999921"
        rpy="0 0 0" />
      <mass
        value="0.00269816712455758" />
      <inertia
        ixx="1.63945498982483E-07"
        ixy="9.92616735063633E-24"
        ixz="-2.13412598038681E-22"
        iyy="1.63945498982483E-07"
        iyz="-2.15066959263787E-23"
        izz="4.74186810973545E-08" />
    </inertial>
    <visual>
      <origin
        xyz="0 0 0"
        rpy="0 0 0" />
      <geometry>
        <mesh
          filename="package://vehicle_assembly/meshes/front_left_roller_2.STL" />
      </geometry>
      <material
        name="">
        <color
          rgba="0.792156862745098 0.819607843137255 0.933333333333333 1" />
      </material>
    </visual>
    <collision>
      <origin
        xyz="0 0 0"
        rpy="0 0 0" />
      <geometry>
        <mesh
          filename="package://vehicle_assembly/meshes/front_left_roller_2.STL" />
      </geometry>
    </collision>
  </link>
  <joint
    name="front_left_roller_joint_2"
    type="continuous">
    <origin
      xyz="0.0178519416031255 -0.0176396443377288 -0.00750296157142988"
      rpy="-0.456823171945388 0.663406127651244 -0.293901499682203" />
    <parent
      link="front_left_wheel" />
    <child
      link="front_left_roller_2" />
    <axis
      xyz="0 0 1" />
  </joint>
  <link
    name="front_left_roller_3">
    <inertial>
      <origin
        xyz="-1.11022302462516E-16 0 -0.0139999999999922"
        rpy="0 0 0" />
      <mass
        value="0.00269816712455774" />
      <inertia
        ixx="1.63945498983862E-07"
        ixy="0"
        ixz="7.50666405891873E-23"
        iyy="1.63945498983862E-07"
        iyz="8.27180612553028E-24"
        izz="4.74186810999045E-08" />
    </inertial>
    <visual>
      <origin
        xyz="0 0 0"
        rpy="0 0 0" />
      <geometry>
        <mesh
          filename="package://vehicle_assembly/meshes/front_left_roller_3.STL" />
      </geometry>
      <material
        name="">
        <color
          rgba="0.792156862745098 0.819607843137255 0.933333333333333 1" />
      </material>
    </visual>
    <collision>
      <origin
        xyz="0 0 0"
        rpy="0 0 0" />
      <geometry>
        <mesh
          filename="package://vehicle_assembly/meshes/front_left_roller_3.STL" />
      </geometry>
    </collision>
  </link>
  <joint
    name="front_left_roller_joint_3"
    type="continuous">
    <origin
      xyz="0.000150116835990088 -0.0250963410938354 -0.00750296157142988"
      rpy="0.478857784316732 0.64894724705125 0.30402620999101" />
    <parent
      link="front_left_wheel" />
    <child
      link="front_left_roller_3" />
    <axis
      xyz="0 0 1" />
  </joint>
  <link
    name="front_left_roller_4">
    <inertial>
      <origin
        xyz="0 -1.11022302462516E-16 -0.0139999999999922"
        rpy="0 0 0" />
      <mass
        value="0.00269816712455769" />
      <inertia
        ixx="1.63945498983614E-07"
        ixy="-6.61744490042422E-24"
        ixz="-1.8859717966209E-22"
        iyy="1.63945498983614E-07"
        iyz="4.30133918527574E-23"
        izz="4.7418681099409E-08" />
    </inertial>
    <visual>
      <origin
        xyz="0 0 0"
        rpy="0 0 0" />
      <geometry>
        <mesh
          filename="package://vehicle_assembly/meshes/front_left_roller_4.STL" />
      </geometry>
      <material
        name="">
        <color
          rgba="0.792156862745098 0.819607843137255 0.933333333333333 1" />
      </material>
    </visual>
    <collision>
      <origin
        xyz="0 0 0"
        rpy="0 0 0" />
      <geometry>
        <mesh
          filename="package://vehicle_assembly/meshes/front_left_roller_4.STL" />
      </geometry>
    </collision>
  </link>
  <joint
    name="front_left_roller_joint_4"
    type="continuous">
    <origin
      xyz="-0.017639644337722 -0.0178519416031125 -0.00750296157142988"
      rpy="0.766248578899477 0.19323617789579 0.182756128842415" />
    <parent
      link="front_left_wheel" />
    <child
      link="front_left_roller_4" />
    <axis
      xyz="0 0 1" />
  </joint>
  <link
    name="front_left_roller_5">
    <inertial>
      <origin
        xyz="-2.22044604925031E-16 5.55111512312578E-17 -0.0139999999999922"
        rpy="0 0 0" />
      <mass
        value="0.00269816712455775" />
      <inertia
        ixx="1.63945498985329E-07"
        ixy="0"
        ixz="8.14772903364732E-23"
        iyy="1.63945498985329E-07"
        iyz="2.31610571514848E-23"
        izz="4.74186811028383E-08" />
    </inertial>
    <visual>
      <origin
        xyz="0 0 0"
        rpy="0 0 0" />
      <geometry>
        <mesh
          filename="package://vehicle_assembly/meshes/front_left_roller_5.STL" />
      </geometry>
      <material
        name="">
        <color
          rgba="0.792156862745098 0.819607843137255 0.933333333333333 1" />
      </material>
    </visual>
    <collision>
      <origin
        xyz="0 0 0"
        rpy="0 0 0" />
      <geometry>
        <mesh
          filename="package://vehicle_assembly/meshes/front_left_roller_5.STL" />
      </geometry>
    </collision>
  </link>
  <joint
    name="front_left_roller_joint_5"
    type="continuous">
    <origin
      xyz="-0.0250963410938285 -0.000150116835977043 -0.00750296157142988"
      rpy="0.763346740733762 -0.206966081028486 -0.194146383614588" />
    <parent
      link="front_left_wheel" />
    <child
      link="front_left_roller_5" />
    <axis
      xyz="0 0 1" />
  </joint>
  <link
    name="front_left_roller_6">
    <inertial>
      <origin
        xyz="1.11022302462516E-16 5.55111512312578E-17 -0.0139999999999921"
        rpy="0 0 0" />
      <mass
        value="0.00269816712455771" />
      <inertia
        ixx="1.63945498983823E-07"
        ixy="-2.49477672745993E-21"
        ixz="1.37932367143217E-22"
        iyy="1.63945498983829E-07"
        iyz="-7.44462551297725E-24"
        izz="4.74186810998316E-08" />
    </inertial>
    <visual>
      <origin
        xyz="0 0 0"
        rpy="0 0 0" />
      <geometry>
        <mesh
          filename="package://vehicle_assembly/meshes/front_left_roller_6.STL" />
      </geometry>
      <material
        name="">
        <color
          rgba="0.792156862745098 0.819607843137255 0.933333333333333 1" />
      </material>
    </visual>
    <collision>
      <origin
        xyz="0 0 0"
        rpy="0 0 0" />
      <geometry>
        <mesh
          filename="package://vehicle_assembly/meshes/front_left_roller_6.STL" />
      </geometry>
    </collision>
  </link>
  <joint
    name="front_left_roller_joint_6"
    type="continuous">
    <origin
      xyz="-0.0178519416031055 0.0176396443377344 -0.00750296157142982"
      rpy="0.456823171945394 -0.66340612765124 -0.293901499682206" />
    <parent
      link="front_left_wheel" />
    <child
      link="front_left_roller_6" />
    <axis
      xyz="0 0 1" />
  </joint>
  <link
    name="front_left_roller_7">
    <inertial>
      <origin
        xyz="0 0 -0.0139999999999921"
        rpy="0 0 0" />
      <mass
        value="0.00269816712455764" />
      <inertia
        ixx="1.63945498983348E-07"
        ixy="1.65436122510606E-23"
        ixz="2.72969602142499E-23"
        iyy="1.63945498983348E-07"
        iyz="-5.04580173657347E-23"
        izz="4.74186810990826E-08" />
    </inertial>
    <visual>
      <origin
        xyz="0 0 0"
        rpy="0 0 0" />
      <geometry>
        <mesh
          filename="package://vehicle_assembly/meshes/front_left_roller_7.STL" />
      </geometry>
      <material
        name="">
        <color
          rgba="0.792156862745098 0.819607843137255 0.933333333333333 1" />
      </material>
    </visual>
    <collision>
      <origin
        xyz="0 0 0"
        rpy="0 0 0" />
      <geometry>
        <mesh
          filename="package://vehicle_assembly/meshes/front_left_roller_7.STL" />
      </geometry>
    </collision>
  </link>
  <joint
    name="front_left_roller_joint_7"
    type="continuous">
    <origin
      xyz="-0.000150116835970326 0.0250963410938415 -0.00750296157142988"
      rpy="-0.478857784316726 -0.648947247051254 0.304026209991007" />
    <parent
      link="front_left_wheel" />
    <child
      link="front_left_roller_7" />
    <axis
      xyz="0 0 1" />
  </joint>
  <link
    name="front_left_roller_8">
    <inertial>
      <origin
        xyz="4.44089209850063E-16 5.55111512312578E-17 -0.0139999999999922"
        rpy="0 0 0" />
      <mass
        value="0.00269816712455764" />
      <inertia
        ixx="1.63945498982572E-07"
        ixy="3.30872245021211E-24"
        ixz="-2.11758236813575E-22"
        iyy="1.63945498982572E-07"
        iyz="-1.48892510259545E-23"
        izz="4.74186810973265E-08" />
    </inertial>
    <visual>
      <origin
        xyz="0 0 0"
        rpy="0 0 0" />
      <geometry>
        <mesh
          filename="package://vehicle_assembly/meshes/front_left_roller_8.STL" />
      </geometry>
      <material
        name="">
        <color
          rgba="0.792156862745098 0.819607843137255 0.933333333333333 1" />
      </material>
    </visual>
    <collision>
      <origin
        xyz="0 0 0"
        rpy="0 0 0" />
      <geometry>
        <mesh
          filename="package://vehicle_assembly/meshes/front_left_roller_8.STL" />
      </geometry>
    </collision>
  </link>
  <joint
    name="front_left_roller_joint_8"
    type="continuous">
    <origin
      xyz="0.0176396443377416 0.0178519416031188 -0.00750296157142988"
      rpy="-0.766248578899476 -0.193236177895794 0.182756128842418" />
    <parent
      link="front_left_wheel" />
    <child
      link="front_left_roller_8" />
    <axis
      xyz="0 0 1" />
  </joint>
  <link
    name="u3_base_link">
    <inertial>
      <origin
        xyz="-3.66373598126302E-15 4.34895175427386E-15 0.0242014583182471"
        rpy="0 0 0" />
      <mass
        value="0.349927574489805" />
      <inertia
        ixx="0.000850315175929105"
        ixy="6.09825487847888E-20"
        ixz="-2.44269716317236E-20"
        iyy="0.000850315175929105"
        iyz="7.61780752942721E-21"
        izz="0.000961065577007259" />
    </inertial>
    <visual>
      <origin
        xyz="0 0 0"
        rpy="0 0 0" />
      <geometry>
        <mesh
          filename="package://vehicle_assembly/meshes/u3_base_link.STL" />
      </geometry>
      <material
        name="">
        <color
          rgba="0.898039215686275 0.917647058823529 0.929411764705882 1" />
      </material>
    </visual>
    <collision>
      <origin
        xyz="0 0 0"
        rpy="0 0 0" />
      <geometry>
        <mesh
          filename="package://vehicle_assembly/meshes/u3_base_link.STL" />
      </geometry>
    </collision>
  </link>
  <joint
    name="ur_base_joint"
    type="fixed">
    <origin
      xyz="0.162792407799439 0 0.1836"
      rpy="0 0 3.14159265358979" />
    <parent
      link="base_link" />
    <child
      link="u3_base_link" />
    <axis
      xyz="0 0 0" />
  </joint>
  <link
    name="ur3_link_1">
    <inertial>
      <origin
        xyz="-0.000944879708423496 -0.000332184728013527 0.06182506140017"
        rpy="0 0 0" />
      <mass
        value="0.767758063282301" />
      <inertia
        ixx="0.00190285623181829"
        ixy="1.13609715450905E-05"
        ixz="-1.31674712304361E-06"
        iyy="0.00187454926929139"
        iyz="-4.63141040159168E-07"
        izz="0.00150396101327187" />
    </inertial>
    <visual>
      <origin
        xyz="0 0 0"
        rpy="0 0 0" />
      <geometry>
        <mesh
          filename="package://vehicle_assembly/meshes/ur3_link_1.STL" />
      </geometry>
      <material
        name="">
        <color
          rgba="0.647058823529412 0.619607843137255 0.588235294117647 1" />
      </material>
    </visual>
    <collision>
      <origin
        xyz="0 0 0"
        rpy="0 0 0" />
      <geometry>
        <mesh
          filename="package://vehicle_assembly/meshes/ur3_link_1.STL" />
      </geometry>
    </collision>
  </link>
  <joint
    name="ur3_joint_1"
    type="revolute">
    <origin
      xyz="0 0 0.0952"
      rpy="0 0 0" />
    <parent
      link="u3_base_link" />
    <child
      link="ur3_link_1" />
    <axis
      xyz="0 0 1" />
    <limit
      lower="-3.14"
      upper="3.14"
      effort="100"
      velocity="0" />
  </joint>
  <link
    name="ur3_link_2">
    <inertial>
      <origin
        xyz="0.00100159330076943 1.34292318876295E-06 0.0648250634095221"
        rpy="0 0 0" />
      <mass
        value="0.767759568503477" />
      <inertia
        ixx="0.00190685857406092"
        ixy="5.75096352796181E-08"
        ixz="1.39421732619422E-06"
        iyy="0.00187057835883259"
        iyz="2.73861192133087E-09"
        izz="0.00150396554186208" />
    </inertial>
    <visual>
      <origin
        xyz="0 0 0"
        rpy="0 0 0" />
      <geometry>
        <mesh
          filename="package://vehicle_assembly/meshes/ur3_link_2.STL" />
      </geometry>
      <material
        name="">
        <color
          rgba="0.647058823529412 0.619607843137255 0.588235294117647 1" />
      </material>
    </visual>
    <collision>
      <origin
        xyz="0 0 0"
        rpy="0 0 0" />
      <geometry>
        <mesh
          filename="package://vehicle_assembly/meshes/ur3_link_2.STL" />
      </geometry>
    </collision>
  </link>
  <joint
    name="ur3_joint_2"
    type="revolute">
    <origin
      xyz="-0.04717 -0.016582 0.06"
      rpy="0.33805 -1.5708 0" />
    <parent
      link="ur3_link_1" />
    <child
      link="ur3_link_2" />
    <axis
      xyz="0 0 1" />
    <limit
      lower="-3.14"
      upper="3.14"
      effort="100"
      velocity="0" />
  </joint>
  <link
    name="ur3_link_3">
    <inertial>
      <origin
        xyz="-2.96867680622537E-05 8.44469926180418E-05 0.0628250729501241"
        rpy="0 0 0" />
      <mass
        value="0.224135525561565" />
      <inertia
        ixx="0.000556303166609516"
        ixy="1.91465210863904E-10"
        ixz="1.42442205069034E-07"
        iyy="0.000556302689275796"
        iyz="-4.05191155021475E-07"
        izz="0.000254857758078425" />
    </inertial>
    <visual>
      <origin
        xyz="0 0 0"
        rpy="0 0 0" />
      <geometry>
        <mesh
          filename="package://vehicle_assembly/meshes/ur3_link_3.STL" />
      </geometry>
      <material
        name="">
        <color
          rgba="0.898039215686275 0.917647058823529 0.929411764705882 1" />
      </material>
    </visual>
    <collision>
      <origin
        xyz="0 0 0"
        rpy="0 0 0" />
      <geometry>
        <mesh
          filename="package://vehicle_assembly/meshes/ur3_link_3.STL" />
      </geometry>
    </collision>
  </link>
  <joint
    name="ur3_joint_3"
    type="fixed">
    <origin
      xyz="0.05 7.124E-05 0.063"
      rpy="-1.5708 1.2327 -1.5708" />
    <parent
      link="ur3_link_2" />
    <child
      link="ur3_link_3" />
    <axis
      xyz="0 0 0" />
  </joint>
  <link
    name="ur3_link_4">
    <inertial>
      <origin
        xyz="-0.00874125929383562 -0.000374178557858408 0.04123643100441"
        rpy="0 0 0" />
      <mass
        value="0.553968973485341" />
      <inertia
        ixx="0.000760067484811771"
        ixy="-1.0506371260224E-05"
        ixz="8.44783647592584E-06"
        iyy="0.000973043200379829"
        iyz="4.15602899092072E-07"
        izz="0.00097333211634733" />
    </inertial>
    <visual>
      <origin
        xyz="0 0 0"
        rpy="0 0 0" />
      <geometry>
        <mesh
          filename="package://vehicle_assembly/meshes/ur3_link_4.STL" />
      </geometry>
      <material
        name="">
        <color
          rgba="0.647058823529412 0.619607843137255 0.588235294117647 1" />
      </material>
    </visual>
    <collision>
      <origin
        xyz="0 0 0"
        rpy="0 0 0" />
      <geometry>
        <mesh
          filename="package://vehicle_assembly/meshes/ur3_link_4.STL" />
      </geometry>
    </collision>
  </link>
  <joint
    name="ur3_joint_4"
    type="fixed">
    <origin
      xyz="-6.1901E-05 0.00017608 0.131"
      rpy="0 0 0" />
    <parent
      link="ur3_link_3" />
    <child
      link="ur3_link_4" />
    <axis
      xyz="0 0 0" />
  </joint>
  <link
    name="ur3_link_5">
    <inertial>
      <origin
        xyz="-0.0102046788191669 -0.000174922839074564 0.0324859218694459"
        rpy="0 0 0" />
      <mass
        value="0.127554070021426" />
      <inertia
        ixx="0.000153399335619954"
        ixy="2.36558103899377E-09"
        ixz="2.29256993924366E-05"
        iyy="0.000153371570490627"
        iyz="3.94076433052358E-07"
        izz="0.000162700622803482" />
    </inertial>
    <visual>
      <origin
        xyz="0 0 0"
        rpy="0 0 0" />
      <geometry>
        <mesh
          filename="package://vehicle_assembly/meshes/ur3_link_5.STL" />
      </geometry>
      <material
        name="">
        <color
          rgba="0.898039215686275 0.917647058823529 0.929411764705882 1" />
      </material>
    </visual>
    <collision>
      <origin
        xyz="0 0 0"
        rpy="0 0 0" />
      <geometry>
        <mesh
          filename="package://vehicle_assembly/meshes/ur3_link_5.STL" />
      </geometry>
    </collision>
  </link>
  <joint
    name="ur3_joint_5"
    type="revolute">
    <origin
      xyz="0.045924 0.0023213 0.043017"
      rpy="-0.049231 1.5704 0" />
    <parent
      link="ur3_link_4" />
    <child
      link="ur3_link_5" />
    <axis
      xyz="0 0 1" />
    <limit
      lower="-3.14"
      upper="3.14"
      effort="100"
      velocity="0" />
  </joint>
  <link
    name="ur3_link_6">
    <inertial>
      <origin
        xyz="2.39094535587903E-05 -0.000934181849302308 0.0544386476912899"
        rpy="0 0 0" />
      <mass
        value="0.159955499009552" />
      <inertia
        ixx="0.000293152251162613"
        ixy="1.26267672923653E-09"
        ixz="-7.35814056570521E-08"
        iyy="0.000293102948613794"
        iyz="2.87494707656083E-06"
        izz="0.000125617203292675" />
    </inertial>
    <visual>
      <origin
        xyz="0 0 0"
        rpy="0 0 0" />
      <geometry>
        <mesh
          filename="package://vehicle_assembly/meshes/ur3_link_6.STL" />
      </geometry>
      <material
        name="">
        <color
          rgba="0.898039215686275 0.917647058823529 0.929411764705882 1" />
      </material>
    </visual>
    <collision>
      <origin
        xyz="0 0 0"
        rpy="0 0 0" />
      <geometry>
        <mesh
          filename="package://vehicle_assembly/meshes/ur3_link_6.STL" />
      </geometry>
    </collision>
  </link>
  <joint
    name="ur3_joint_6"
    type="fixed">
    <origin
      xyz="-0.044995 -0.00077286 0.04"
      rpy="1.5626 -1.5216 -1.5625" />
    <parent
      link="ur3_link_5" />
    <child
      link="ur3_link_6" />
    <axis
      xyz="0 0 0" />
  </joint>
  <link
    name="ur3_link_7">
    <inertial>
      <origin
        xyz="0.00347139224104931 0.00257335997006167 0.0362108559054254"
        rpy="0 0 0" />
      <mass
        value="0.398536509789194" />
      <inertia
        ixx="0.00044858472584666"
        ixy="-4.76901846000244E-05"
        ixz="-2.63688400460965E-06"
        iyy="0.000456174253311962"
        iyz="-2.48098597384872E-06"
        izz="0.00050265730814257" />
    </inertial>
    <visual>
      <origin
        xyz="0 0 0"
        rpy="0 0 0" />
      <geometry>
        <mesh
          filename="package://vehicle_assembly/meshes/ur3_link_7.STL" />
      </geometry>
      <material
        name="">
        <color
          rgba="0.647058823529412 0.619607843137255 0.588235294117647 1" />
      </material>
    </visual>
    <collision>
      <origin
        xyz="0 0 0"
        rpy="0 0 0" />
      <geometry>
        <mesh
          filename="package://vehicle_assembly/meshes/ur3_link_7.STL" />
      </geometry>
    </collision>
  </link>
  <joint
    name="ur3_joint_7"
    type="fixed">
    <origin
      xyz="5.0281E-05 -0.0019646 0.11448"
      rpy="0 0 0" />
    <parent
      link="ur3_link_6" />
    <child
      link="ur3_link_7" />
    <axis
      xyz="0 0 0" />
  </joint>
  <link
    name="ur3_link_8">
    <inertial>
      <origin
        xyz="1.68480162210383E-06 0.00470541958465592 0.0391624560674754"
        rpy="0 0 0" />
      <mass
        value="0.39853628229664" />
      <inertia
        ixx="0.000500200464430663"
        ixy="-6.102190891016E-08"
        ixz="-1.90465808176435E-09"
        iyy="0.000404466154221167"
        iyz="-2.50429271391386E-06"
        izz="0.000502727269393051" />
    </inertial>
    <visual>
      <origin
        xyz="0 0 0"
        rpy="0 0 0" />
      <geometry>
        <mesh
          filename="package://vehicle_assembly/meshes/ur3_link_8.STL" />
      </geometry>
      <material
        name="">
        <color
          rgba="0.647058823529412 0.619607843137255 0.588235294117647 1" />
      </material>
    </visual>
    <collision>
      <origin
        xyz="0 0 0"
        rpy="0 0 0" />
      <geometry>
        <mesh
          filename="package://vehicle_assembly/meshes/ur3_link_8.STL" />
      </geometry>
    </collision>
  </link>
  <joint
    name="ur3_joint_8"
    type="revolute">
    <origin
      xyz="-0.02899 -0.027452 0.037047"
      rpy="-1.5821 -0.012251 2.317" />
    <parent
      link="ur3_link_7" />
    <child
      link="ur3_link_8" />
    <axis
      xyz="0 0 -1" />
    <limit
      lower="-3.14"
      upper="3.14"
      effort="100"
      velocity="0" />
  </joint>
  <link
    name="ur3_link_9">
    <inertial>
      <origin
        xyz="-0.00697105050859625 0.00885244297474412 0.0397055176266696"
        rpy="0 0 0" />
      <mass
        value="0.557684430697762" />
      <inertia
        ixx="0.000766703957093152"
        ixy="0.000193257153337076"
        ixz="7.10446354592993E-06"
        iyy="0.000644969048783199"
        iyz="-9.72806772950938E-06"
        izz="0.000910512996826322" />
    </inertial>
    <visual>
      <origin
        xyz="0 0 0"
        rpy="0 0 0" />
      <geometry>
        <mesh
          filename="package://vehicle_assembly/meshes/ur3_link_9.STL" />
      </geometry>
      <material
        name="">
        <color
          rgba="0.647058823529412 0.619607843137255 0.588235294117647 1" />
      </material>
    </visual>
    <collision>
      <origin
        xyz="0 0 0"
        rpy="0 0 0" />
      <geometry>
        <mesh
          filename="package://vehicle_assembly/meshes/ur3_link_9.STL" />
      </geometry>
    </collision>
  </link>
  <joint
    name="ur3_joint_9"
    type="revolute">
    <origin
      xyz="-2.5623E-05 -0.0395 0.0405"
      rpy="-1.5875 0.82469 3.1416" />
    <parent
      link="ur3_link_8" />
    <child
      link="ur3_link_9" />
    <axis
      xyz="-0.00044032 0.017159 -0.99985" />
    <limit
      lower="-3.14"
      upper="3.14"
      effort="100"
      velocity="0" />
  </joint>
  <link
    name="ee_link">
    <inertial>
      <origin
        xyz="3.44169137633799E-15 1.11022302462516E-15 0.0286081605526319"
        rpy="0 0 0" />
      <mass
        value="0.228315898214592" />
      <inertia
        ixx="0.000119645757103577"
        ixy="-5.94131375620769E-05"
        ixz="-8.470329472543E-20"
        iyy="0.000220836787212062"
        iyz="-5.62085769842033E-20"
        izz="0.000224958898291664" />
    </inertial>
    <visual>
      <origin
        xyz="0 0 0"
        rpy="0 0 0" />
      <geometry>
        <mesh
          filename="package://vehicle_assembly/meshes/ee_link.STL" />
      </geometry>
      <material
        name="">
        <color
          rgba="0.898039215686275 0.917647058823529 0.929411764705882 1" />
      </material>
    </visual>
    <collision>
      <origin
        xyz="0 0 0"
        rpy="0 0 0" />
      <geometry>
        <mesh
          filename="package://vehicle_assembly/meshes/ee_link.STL" />
      </geometry>
    </collision>
  </link>
  <joint
    name="ee_joint"
    type="revolute">
    <origin
      xyz="-0.032501 0.043655 0.041269"
      rpy="-0.93798 -1.547 0" />
    <parent
      link="ur3_link_9" />
    <child
      link="ee_link" />
    <axis
      xyz="0 0 1" />
    <limit
      lower="-6.28"
      upper="6.28"
      effort="100"
      velocity="0" />
  </joint>
  <link
    name="ee_left_finger">
    <inertial>
      <origin
        xyz="-0.0112888424736179 0.0169540799030595 0.0039870231113443"
        rpy="0 0 0" />
      <mass
        value="0.116532917792388" />
      <inertia
        ixx="6.13768127393589E-05"
        ixy="1.47358333600649E-05"
        ixz="5.68523403742739E-06"
        iyy="4.90577175389812E-05"
        iyz="-8.53833440969669E-06"
        izz="8.48753968585245E-05" />
    </inertial>
    <visual>
      <origin
        xyz="0 0 0"
        rpy="0 0 0" />
      <geometry>
        <mesh
          filename="package://vehicle_assembly/meshes/ee_left_finger.STL" />
      </geometry>
      <material
        name="">
        <color
          rgba="0.792156862745098 0.819607843137255 0.933333333333333 1" />
      </material>
    </visual>
    <collision>
      <origin
        xyz="0 0 0"
        rpy="0 0 0" />
      <geometry>
        <mesh
          filename="package://vehicle_assembly/meshes/ee_left_finger.STL" />
      </geometry>
    </collision>
  </link>
  <joint
    name="ee_left_joint"
    type="prismatic">
    <origin
      xyz="-0.055186 -0.027692 0.052"
      rpy="1.5708 0.58744 2.0035" />
    <parent
      link="ee_link" />
    <child
      link="ee_left_finger" />
    <axis
      xyz="0 0 1" />
    <limit
      lower="-0.2"
      upper="-0.1"
      effort="100"
      velocity="0" />
  </joint>
  <link
    name="ee_right_finger">
    <inertial>
      <origin
        xyz="0.0112888424736186 0.0169540799030595 0.00398702311134419"
        rpy="0 0 0" />
      <mass
        value="0.116532917792387" />
      <inertia
        ixx="6.1376812739353E-05"
        ixy="-1.47358333600591E-05"
        ixz="-5.68523403742776E-06"
        iyy="4.90577175389789E-05"
        iyz="-8.53833440969617E-06"
        izz="8.48753968585155E-05" />
    </inertial>
    <visual>
      <origin
        xyz="0 0 0"
        rpy="0 0 0" />
      <geometry>
        <mesh
          filename="package://vehicle_assembly/meshes/ee_right_finger.STL" />
      </geometry>
      <material
        name="">
        <color
          rgba="0.792156862745098 0.819607843137255 0.933333333333333 1" />
      </material>
    </visual>
    <collision>
      <origin
        xyz="0 0 0"
        rpy="0 0 0" />
      <geometry>
        <mesh
          filename="package://vehicle_assembly/meshes/ee_right_finger.STL" />
      </geometry>
    </collision>
  </link>
  <joint
    name="ee_right_joint"
    type="prismatic">
    <origin
      xyz="0.049587 0.022903 0.052"
      rpy="1.5708 -0.58744 -1.1381" />
    <parent
      link="ee_link" />
    <child
      link="ee_right_finger" />
    <axis
      xyz="0 0 -1" />
    <limit
      lower="0.1"
      upper="0.2"
      effort="100"
      velocity="0" />
  </joint>

<!--############ TRANSMISSION ELEMENTS ###############-->

<!--########### FOR WHEELS ################-->
  <transmission name="rear_left_wheel_trans">
    <type>transmission_interface/SimpleTransmission</type>
    <joint name="rear_left_wheel_joint">
      <hardwareInterface>hardware_interface/VelocityJointInterface</hardwareInterface>
    </joint>
    <actuator name="rear_left_wheel_motor">
      <hardwareInterface>hardware_interface/VelocityJointInterface</hardwareInterface>
      <mechanicalReduction>1</mechanicalReduction>
    </actuator>
  </transmission>

  <transmission name="rear_right_wheel_trans">
    <type>transmission_interface/SimpleTransmission</type>
    <joint name="rear_right_wheel_joint">
      <hardwareInterface>hardware_interface/VelocityJointInterface</hardwareInterface>
    </joint>
    <actuator name="rear_right_wheel_motor">
      <hardwareInterface>hardware_interface/VelocityJointInterface</hardwareInterface>
      <mechanicalReduction>1</mechanicalReduction>
    </actuator>
  </transmission>

  <transmission name="front_left_wheel_trans">
    <type>transmission_interface/SimpleTransmission</type>
    <joint name="front_left_wheel_joint">
      <hardwareInterface>hardware_interface/VelocityJointInterface</hardwareInterface>
    </joint>
    <actuator name="front_left_wheel_motor">
      <hardwareInterface>hardware_interface/VelocityJointInterface</hardwareInterface>
      <mechanicalReduction>1</mechanicalReduction>
    </actuator>
  </transmission>

  <transmission name="front_right_wheel_trans">
    <type>transmission_interface/SimpleTransmission</type>
    <joint name="front_right_wheel_joint">
      <hardwareInterface>hardware_interface/VelocityJointInterface</hardwareInterface>
    </joint>
    <actuator name="front_right_wheel_motor">
      <hardwareInterface>hardware_interface/VelocityJointInterface</hardwareInterface>
      <mechanicalReduction>1</mechanicalReduction>
    </actuator>
  </transmission>

<!--################ FOR ARM ################-->
<transmission name="ur3_joint_1_trans">
    <type>transmission_interface/SimpleTransmission</type>
    <joint name="ur3_joint_1">
      <hardwareInterface>hardware_interface/PositionJointInterface</hardwareInterface>
    </joint>
    <actuator name="ur3_joint_1_motor">
      <hardwareInterface>hardware_interface/PositionJointInterface</hardwareInterface>
      <mechanicalReduction>1</mechanicalReduction>
    </actuator>
  </transmission>

  <transmission name="ur3_joint_2_trans">
    <type>transmission_interface/SimpleTransmission</type>
    <joint name="ur3_joint_2">
      <hardwareInterface>hardware_interface/PositionJointInterface</hardwareInterface>
    </joint>
    <actuator name="ur3_joint_2_motor">
      <hardwareInterface>hardware_interface/PositionJointInterface</hardwareInterface>
      <mechanicalReduction>1</mechanicalReduction>
    </actuator>
  </transmission>

  <transmission name="ur3_joint_5_trans">
    <type>transmission_interface/SimpleTransmission</type>
    <joint name="ur3_joint_5">
      <hardwareInterface>hardware_interface/PositionJointInterface</hardwareInterface>
    </joint>
    <actuator name="ur3_joint_5_motor">
      <hardwareInterface>hardware_interface/PositionJointInterface</hardwareInterface>
      <mechanicalReduction>1</mechanicalReduction>
    </actuator>
  </transmission>

  <transmission name="ur3_joint_8_trans">
    <type>transmission_interface/SimpleTransmission</type>
    <joint name="ur3_joint_8">
      <hardwareInterface>hardware_interface/PositionJointInterface</hardwareInterface>
    </joint>
    <actuator name="ur3_joint_8_motor">
      <hardwareInterface>hardware_interface/PositionJointInterface</hardwareInterface>
      <mechanicalReduction>1</mechanicalReduction>
    </actuator>
  </transmission>

  <transmission name="ur3_joint_9_trans">
    <type>transmission_interface/SimpleTransmission</type>
    <joint name="ur3_joint_9">
      <hardwareInterface>hardware_interface/PositionJointInterface</hardwareInterface>
    </joint>
    <actuator name="ur3_joint_9_motor">
      <hardwareInterface>hardware_interface/PositionJointInterface</hardwareInterface>
      <mechanicalReduction>1</mechanicalReduction>
    </actuator>
  </transmission>

  <transmission name="ee_trans">
    <type>transmission_interface/SimpleTransmission</type>
    <joint name="ee_joint">
      <hardwareInterface>hardware_interface/PositionJointInterface</hardwareInterface>
    </joint>
    <actuator name="ee_motor">
      <hardwareInterface>hardware_interface/PositionJointInterface</hardwareInterface>
      <mechanicalReduction>1</mechanicalReduction>
    </actuator>
  </transmission>

  <transmission name="ee_left_trans">
    <type>transmission_interface/SimpleTransmission</type>
    <joint name="ee_left_joint">
      <hardwareInterface>hardware_interface/PositionJointInterface</hardwareInterface>
    </joint>
    <actuator name="ee_left_joint_motor">
      <hardwareInterface>hardware_interface/PositionJointInterface</hardwareInterface>
      <mechanicalReduction>1</mechanicalReduction>
    </actuator>
  </transmission>

  <transmission name="ee_right_trans">
    <type>transmission_interface/SimpleTransmission</type>
    <joint name="ee_right_joint">
      <hardwareInterface>hardware_interface/PositionJointInterface</hardwareInterface>
    </joint>
    <actuator name="ee_right_joint_motor">
      <hardwareInterface>hardware_interface/PositionJointInterface</hardwareInterface>
      <mechanicalReduction>1</mechanicalReduction>
    </actuator>
  </transmission>

    <!--##########  PLUGINS  ###########3-->
  <gazebo>
    <plugin name="gazebo_ros_control"
     filename="libgazebo_ros_control.so">
    <robotNamespace>/vehicle_assembly</robotNamespace>
    </plugin>
  </gazebo>

  <!-- <gazebo>
		<plugin name="gazebo_ros_control" filename="libgazebo_ros_control.so">
			<robotNamespace>/arm_assembly</robotNamespace>
			<robotSimType>gazebo_ros_control/DefaultRobotHWSim</robotSimType>
			<legacyModeNS>true</legacyModeNS>
		</plugin>
	</gazebo> -->

  <gazebo>
			<plugin name="move_controller" filename="libgazebo_ros_planar_move.so">
        <robotNamespace>/vehicle_assembly</robotNamespace>
				<commandTopic>cmd_vel</commandTopic>
				<odometryTopic>odom</odometryTopic>
				<odometryFrame>odom</odometryFrame>
				<odometryRate>10.0</odometryRate>
				<robotBaseFrame>base_link</robotBaseFrame>
			</plugin>
		</gazebo>

  <gazebo reference="ur3_link_1">
    <selfCollide>true</selfCollide>
  </gazebo>
  <gazebo reference="ur3_link_2">
    <selfCollide>true</selfCollide>
  </gazebo>
  <gazebo reference="ur3_link_3">
    <selfCollide>true</selfCollide>
  </gazebo>
  <gazebo reference="ur3_link_4">
    <selfCollide>true</selfCollide>
  </gazebo>
  <gazebo reference="ur3_link_5">
    <selfCollide>true</selfCollide>
  </gazebo>
  <gazebo reference="ur3_link_6">
    <selfCollide>true</selfCollide>
  </gazebo>
  <gazebo reference="ur3_link_7">
    <selfCollide>true</selfCollide>
  </gazebo>
  <gazebo reference="ur3_link_8">
    <selfCollide>true</selfCollide>
  </gazebo>
  <gazebo reference="ur3_link_9">
    <selfCollide>true</selfCollide>
  </gazebo>
  <gazebo reference="ee_link">
    <selfCollide>true</selfCollide>
  </gazebo>
  <gazebo reference="ee_left_finger">
    <selfCollide>true</selfCollide>
  </gazebo>
  <gazebo reference="ee_right_finger">
    <selfCollide>true</selfCollide>
  </gazebo>
</robot>
